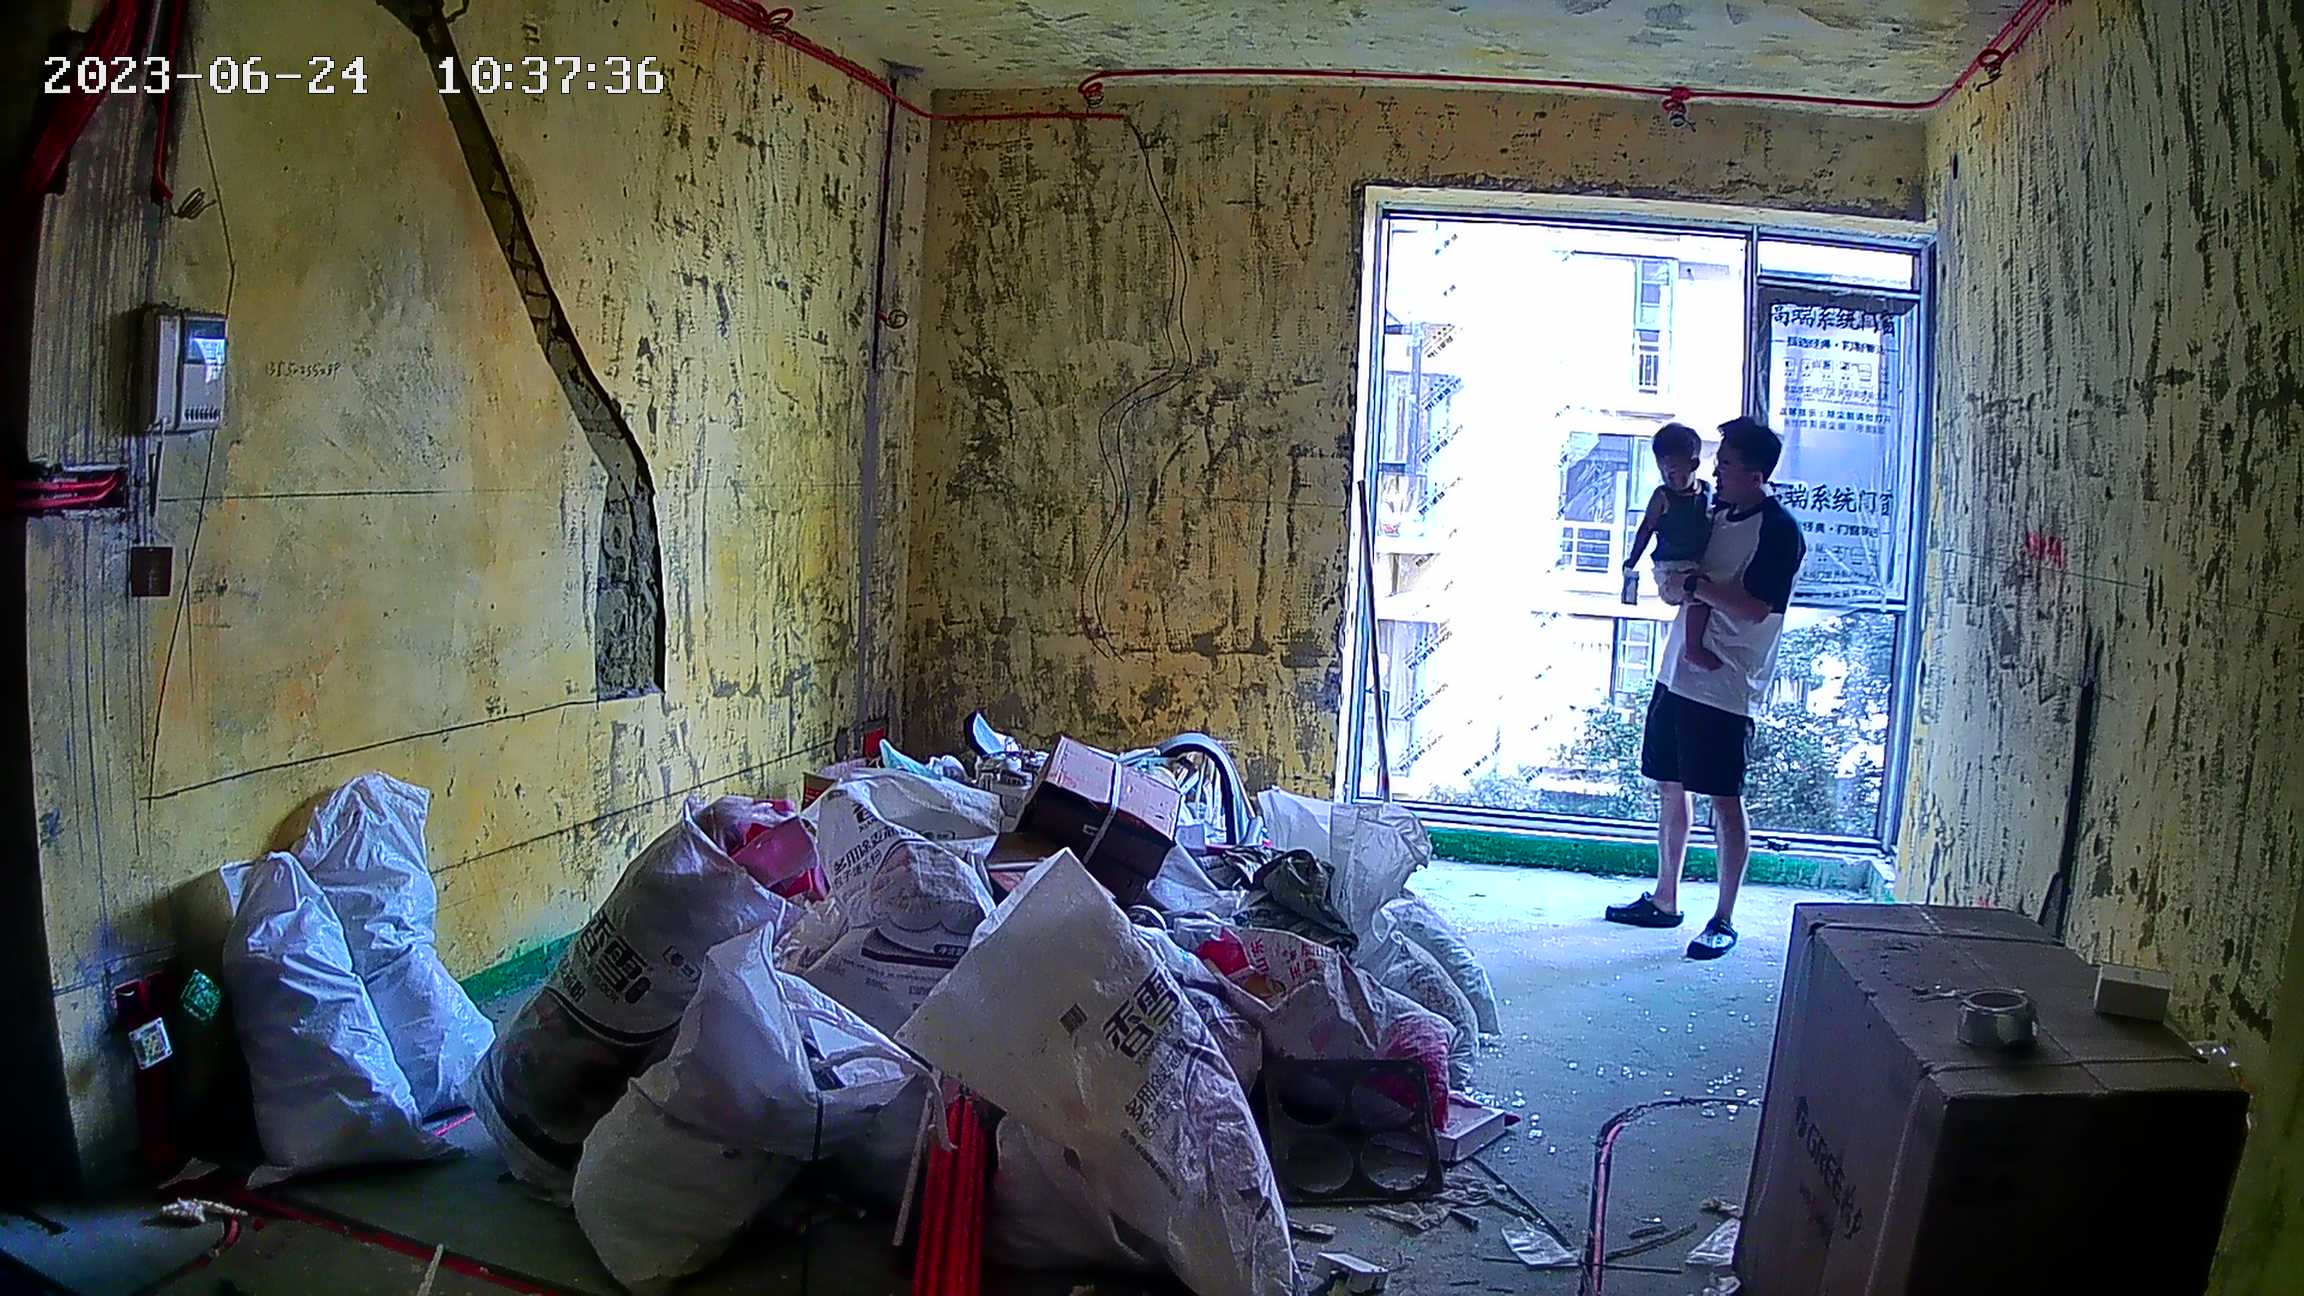people: (1619, 415, 1807, 967)
window: (1378, 201, 1904, 850)
